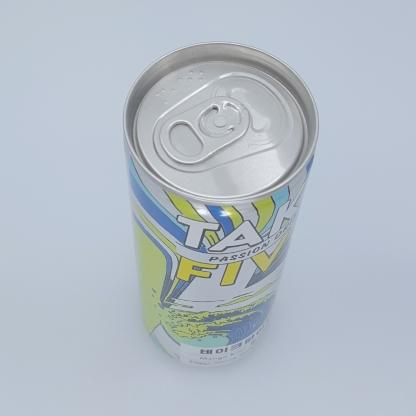---------: (123, 41, 319, 367)
